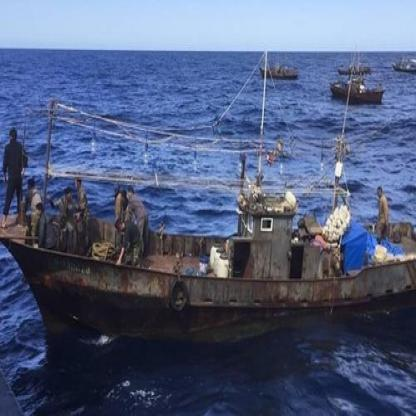fish-b: (1, 160, 415, 333), (328, 76, 390, 108), (336, 55, 375, 79), (257, 62, 299, 82)
